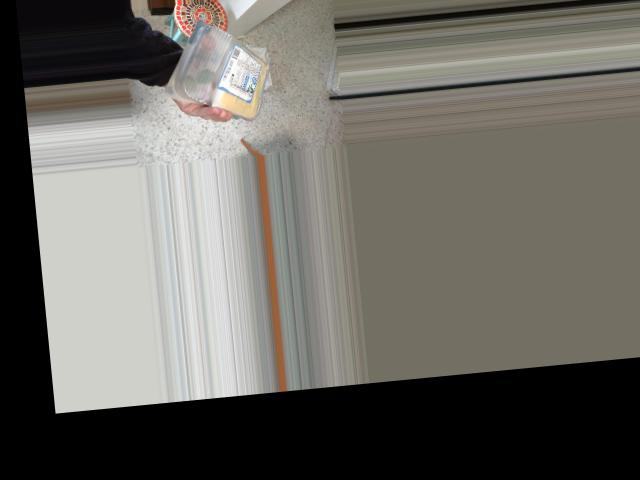cheese: (166, 11, 281, 114)
